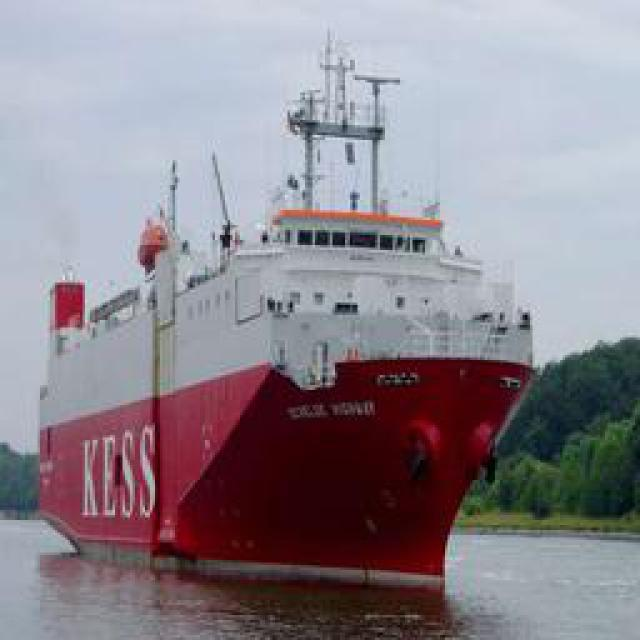Ship: (46, 26, 534, 594)
